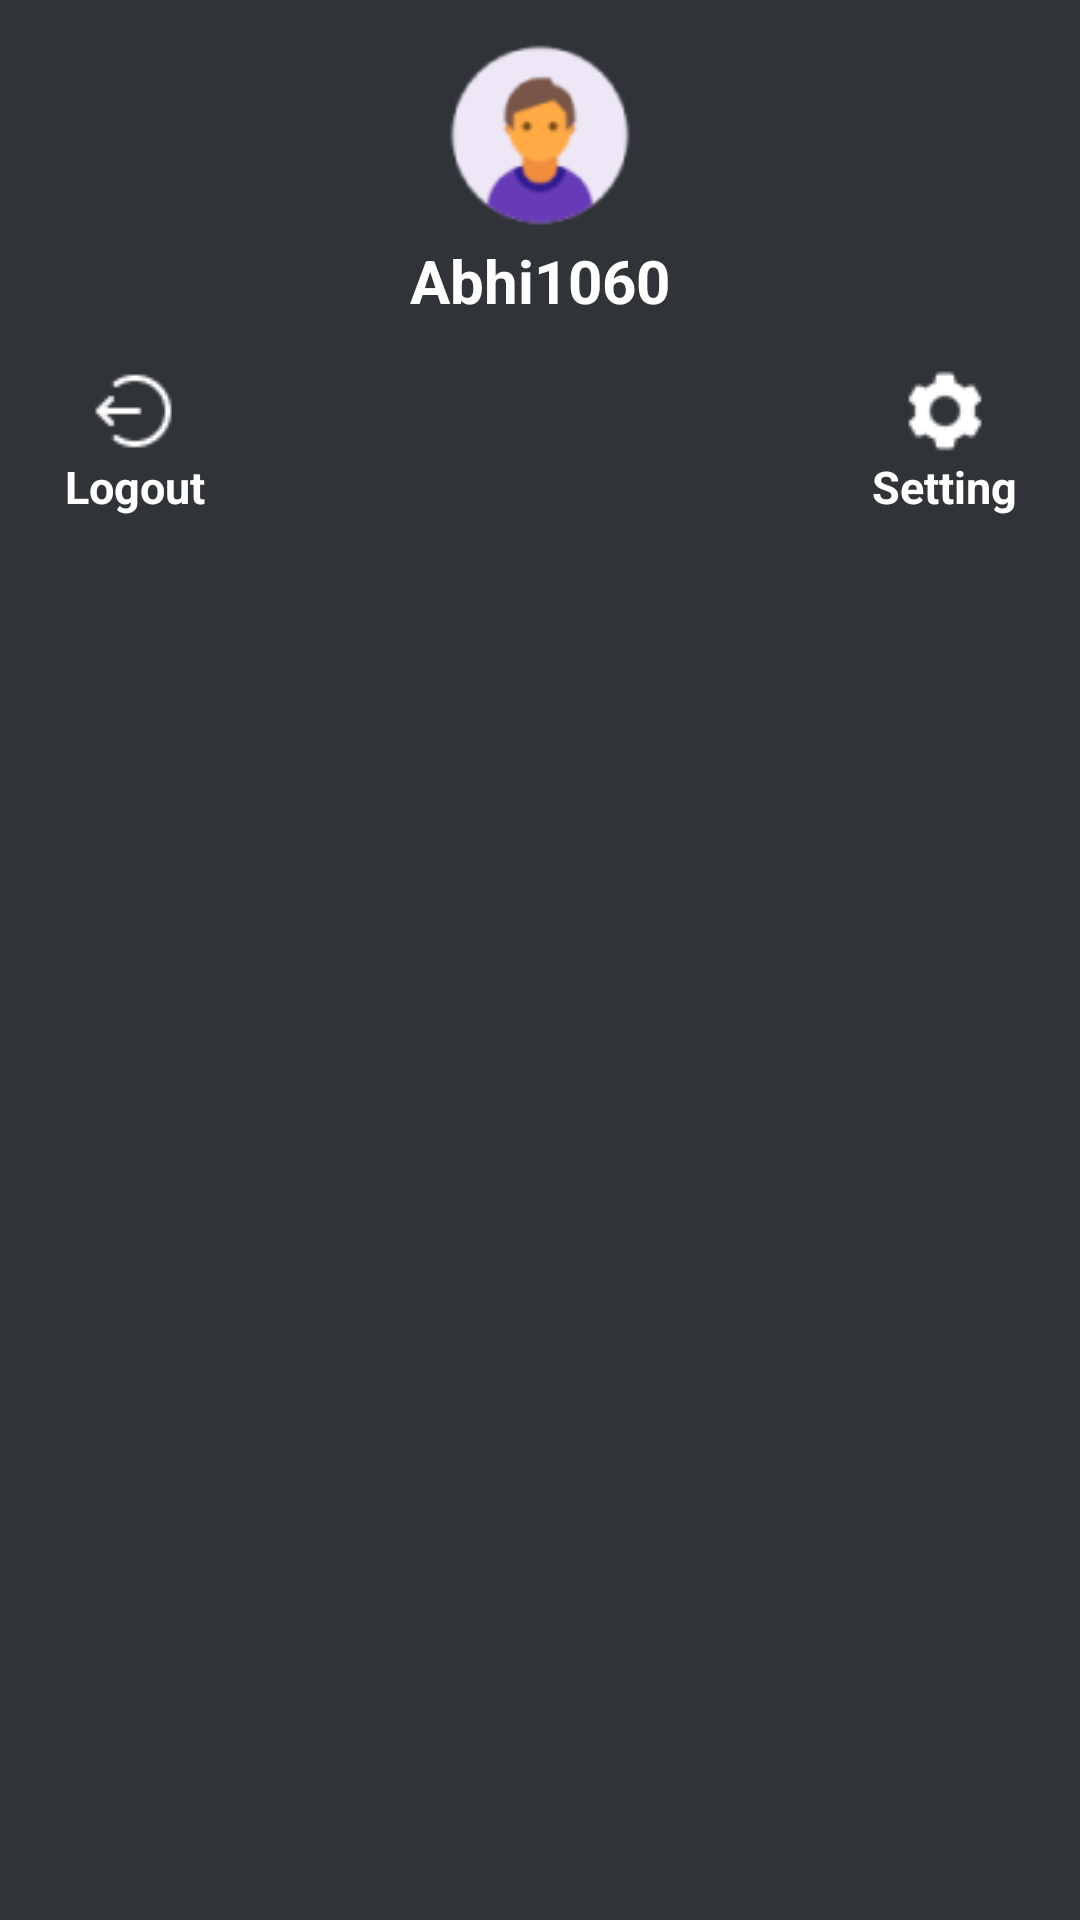

Icon bounding boxes for this 1080px×1920px phone screenshot, format bbox(x1, y1, x2, y2):
profile pic: bbox(450, 45, 630, 225)
